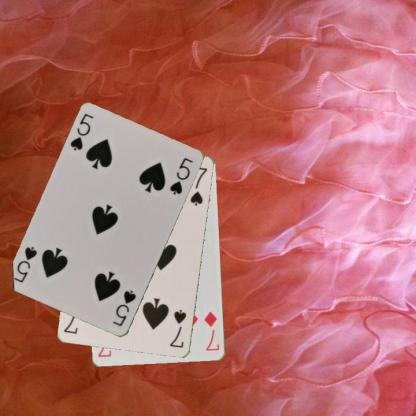5s: (68, 111, 95, 152), (110, 288, 137, 328)
7d: (202, 308, 220, 352)
7s: (167, 306, 188, 350)
